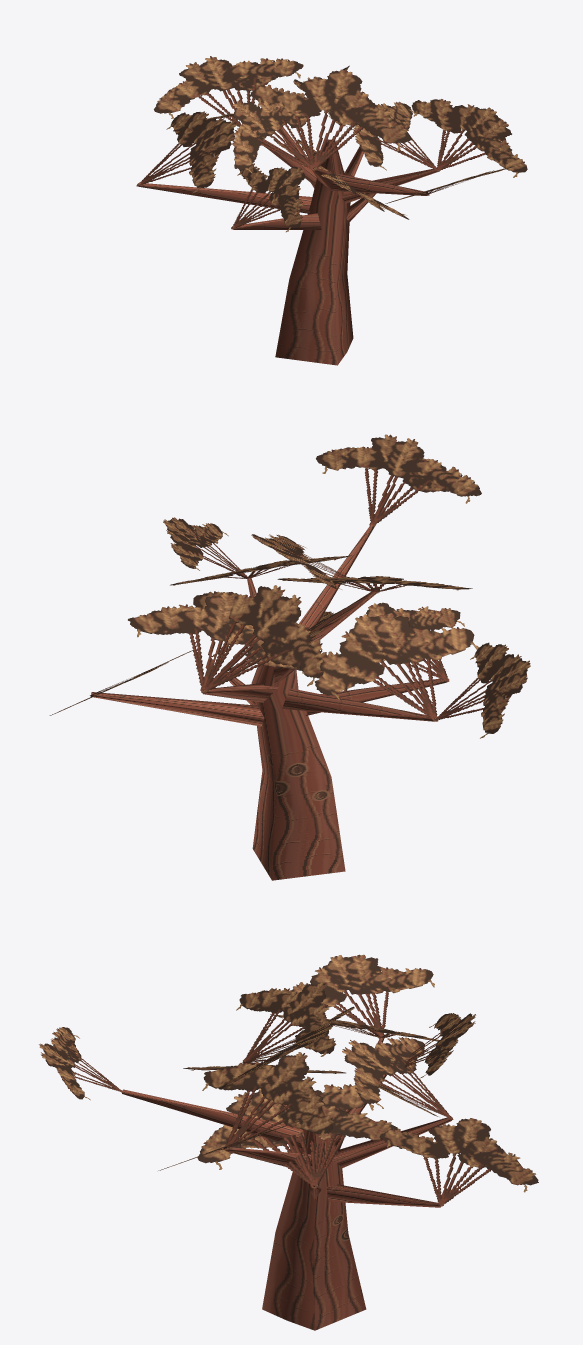
Rendered from badlands-mesquite-mobile.glb.
The picture shows the model from 3 angles, top to bottom: view 1: azimuth 30°, elevation 25°; view 2: azimuth 150°, elevation 25°; view 3: azimuth 270°, elevation 25°; orthographic projection. The views are drawn at different scales.
Visible parts, largest first — view 1: Badlands mesquite mobile v3 runtime; view 2: Badlands mesquite mobile v3 runtime; view 3: Badlands mesquite mobile v3 runtime.
Boxes of the visible parts, x1,y1,x2,y2 form: Badlands mesquite mobile v3 runtime: (136, 56, 527, 365); Badlands mesquite mobile v3 runtime: (49, 434, 530, 880); Badlands mesquite mobile v3 runtime: (39, 954, 538, 1330).
Bounding box in the file's own units: 7.41 × 4.54 × 7.14.
1 material, 1 textured.
